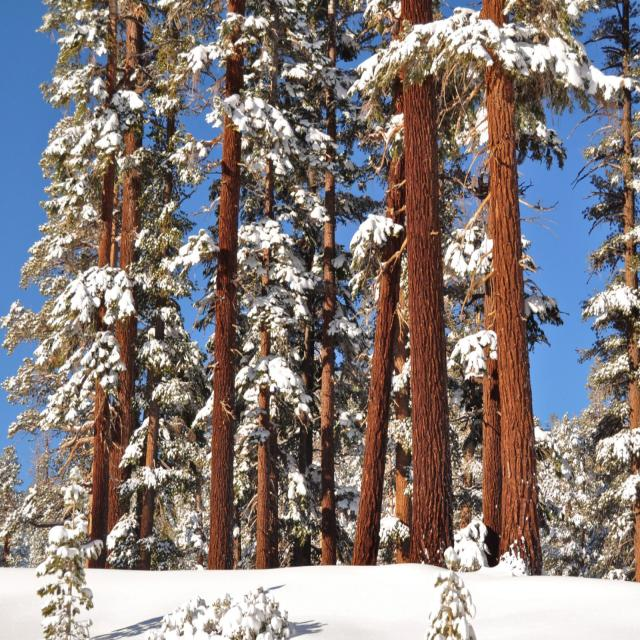Abies: (418, 2, 630, 564), (41, 4, 191, 562), (217, 0, 328, 574)
